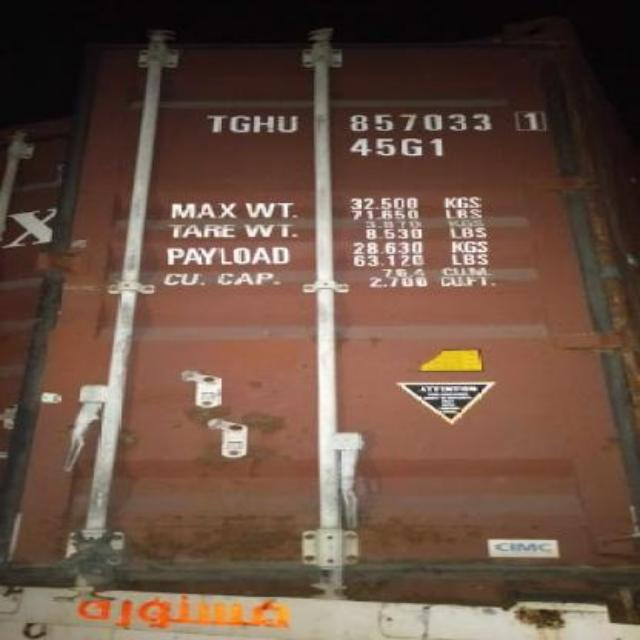0: (420, 106, 446, 136)
1: (511, 108, 552, 136)
3: (468, 104, 494, 132), (444, 107, 468, 133)
5: (370, 109, 394, 135)
7: (394, 106, 420, 134)
8: (344, 108, 372, 136)
G: (230, 109, 250, 139)
H: (246, 109, 274, 141)
T: (204, 110, 230, 136)
U: (274, 109, 304, 139)
